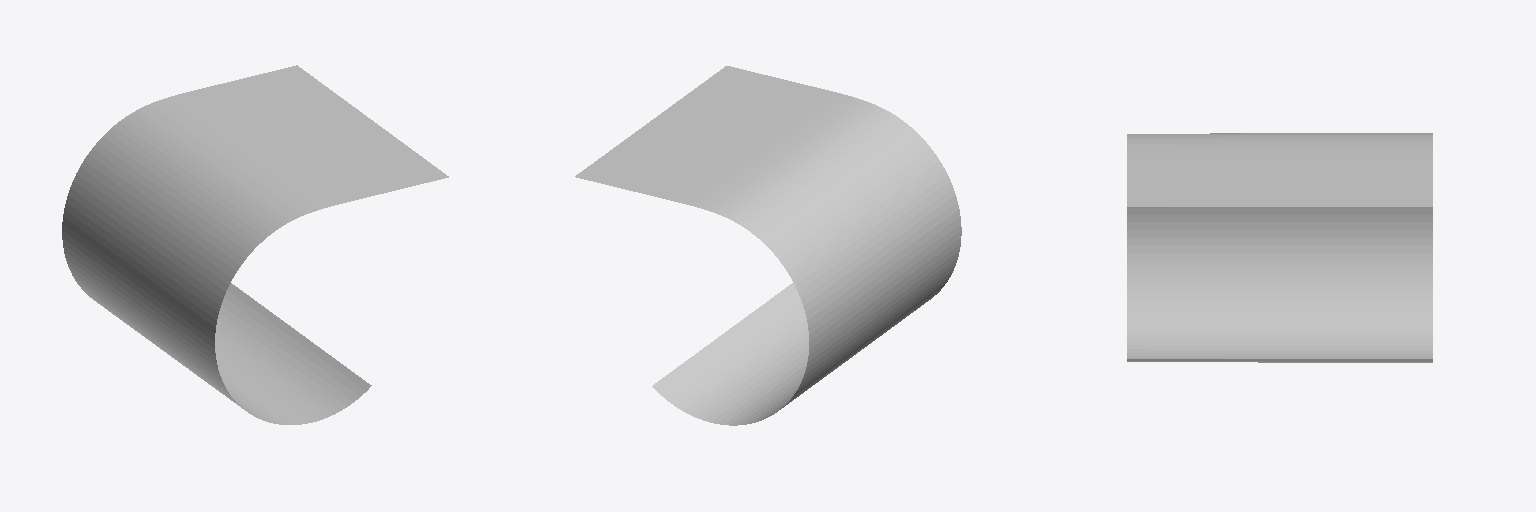
The model's file is CurvePaper_000032.obj.
3 renders of one model, left to right at view 1: azimuth 30°, elevation 25°; view 2: azimuth 150°, elevation 25°; view 3: azimuth 270°, elevation 25°, orthographic.
Visible parts, largest first — view 1: Plane; view 2: Plane; view 3: Plane.
Boxes of the visible parts, box(x1,y1,x2,y2) form: Plane: box(62, 65, 448, 424); Plane: box(575, 66, 961, 425); Plane: box(1127, 133, 1432, 362).
Bounding box in the file's own units: 2.01 × 1.74 × 2.26.